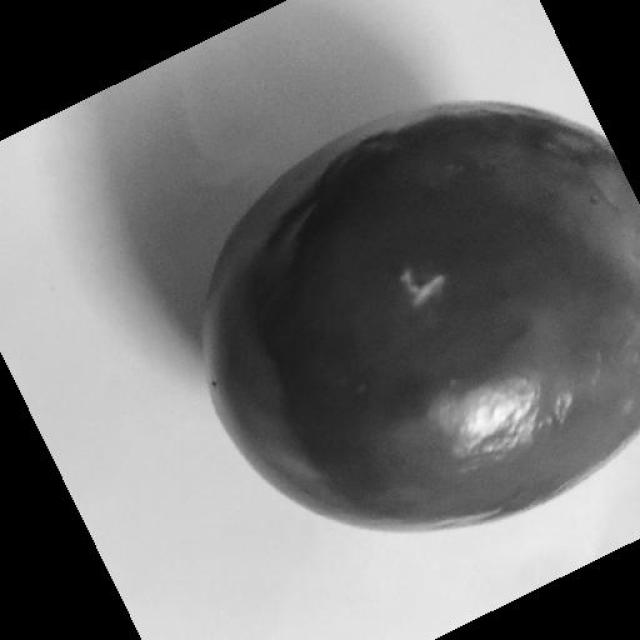Stale_tomato: (253, 126, 640, 490)
